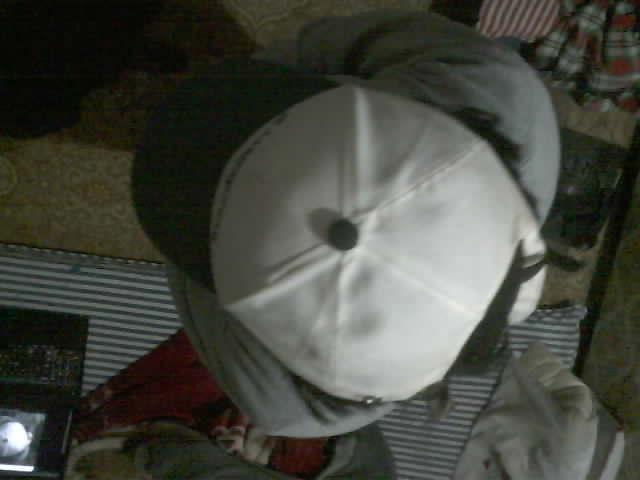cap: (209, 85, 549, 404)
